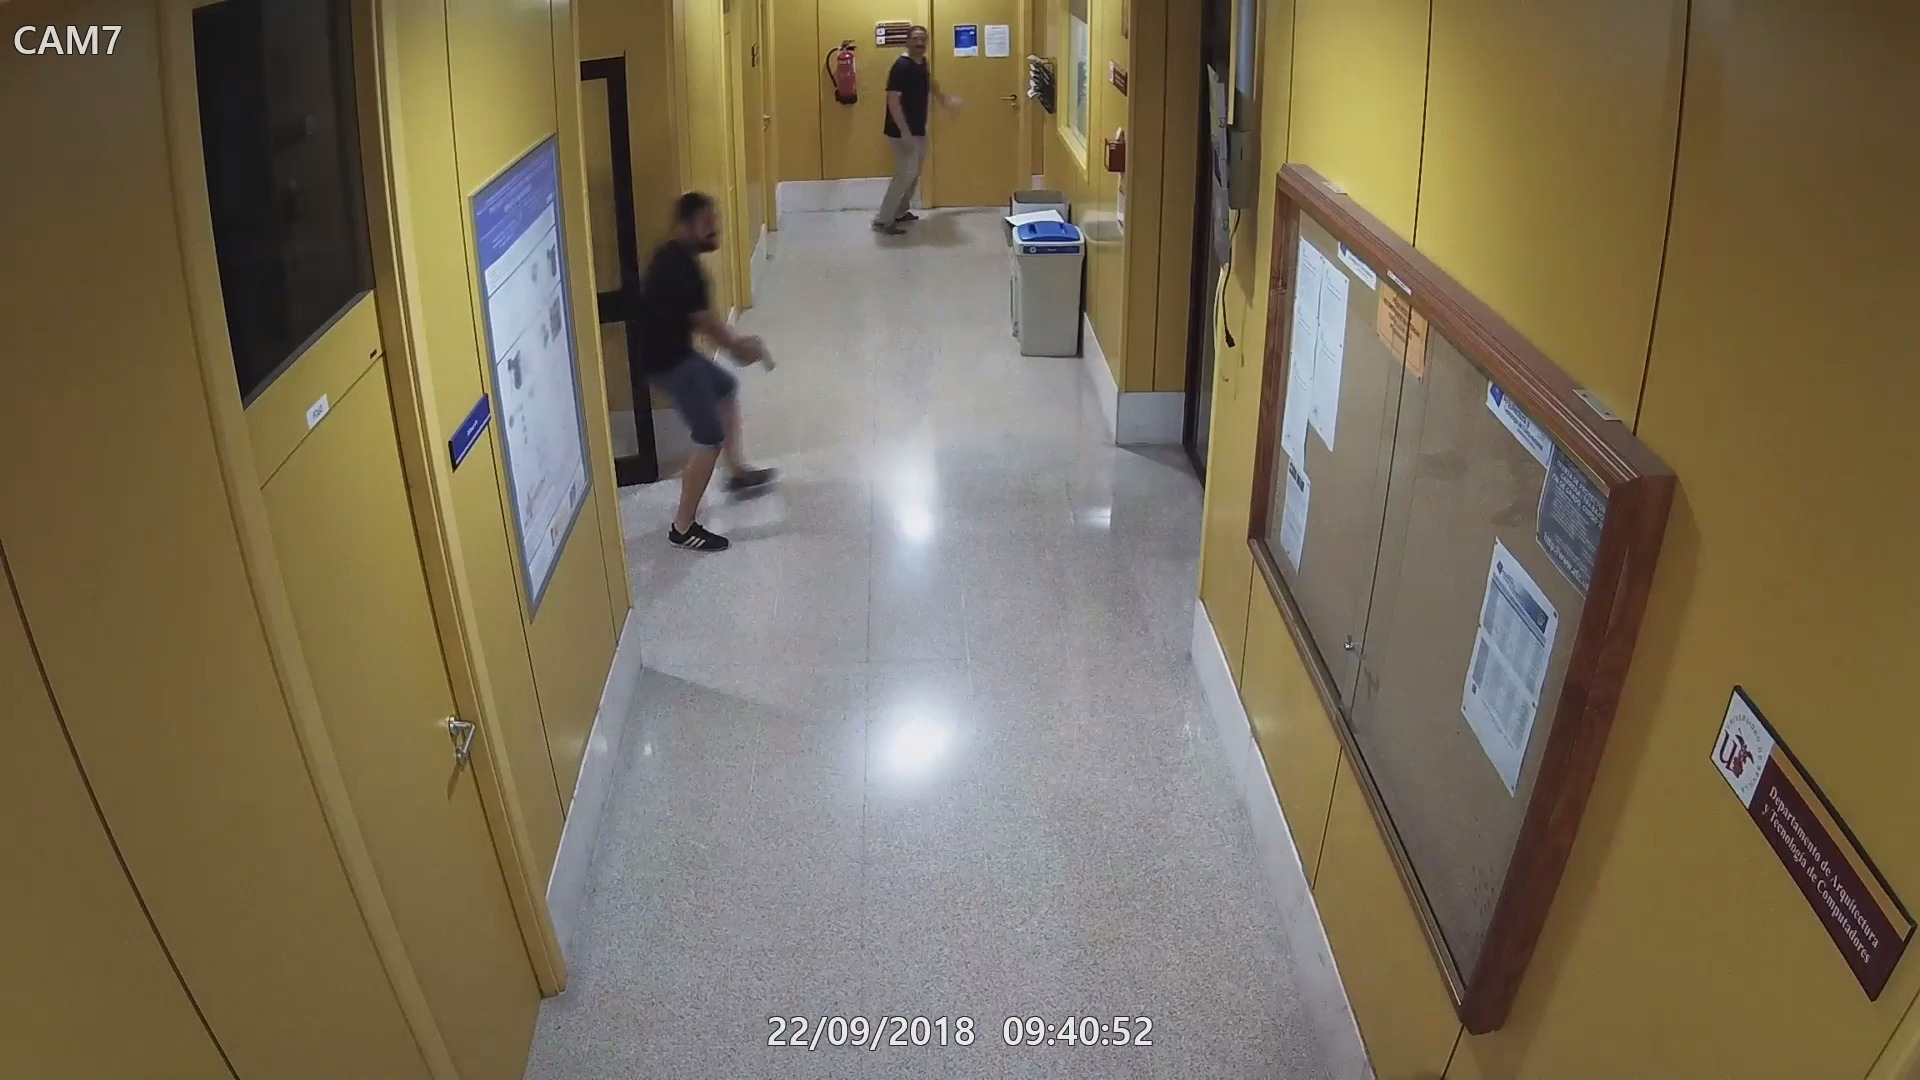Handgun: (733, 334, 777, 371)
